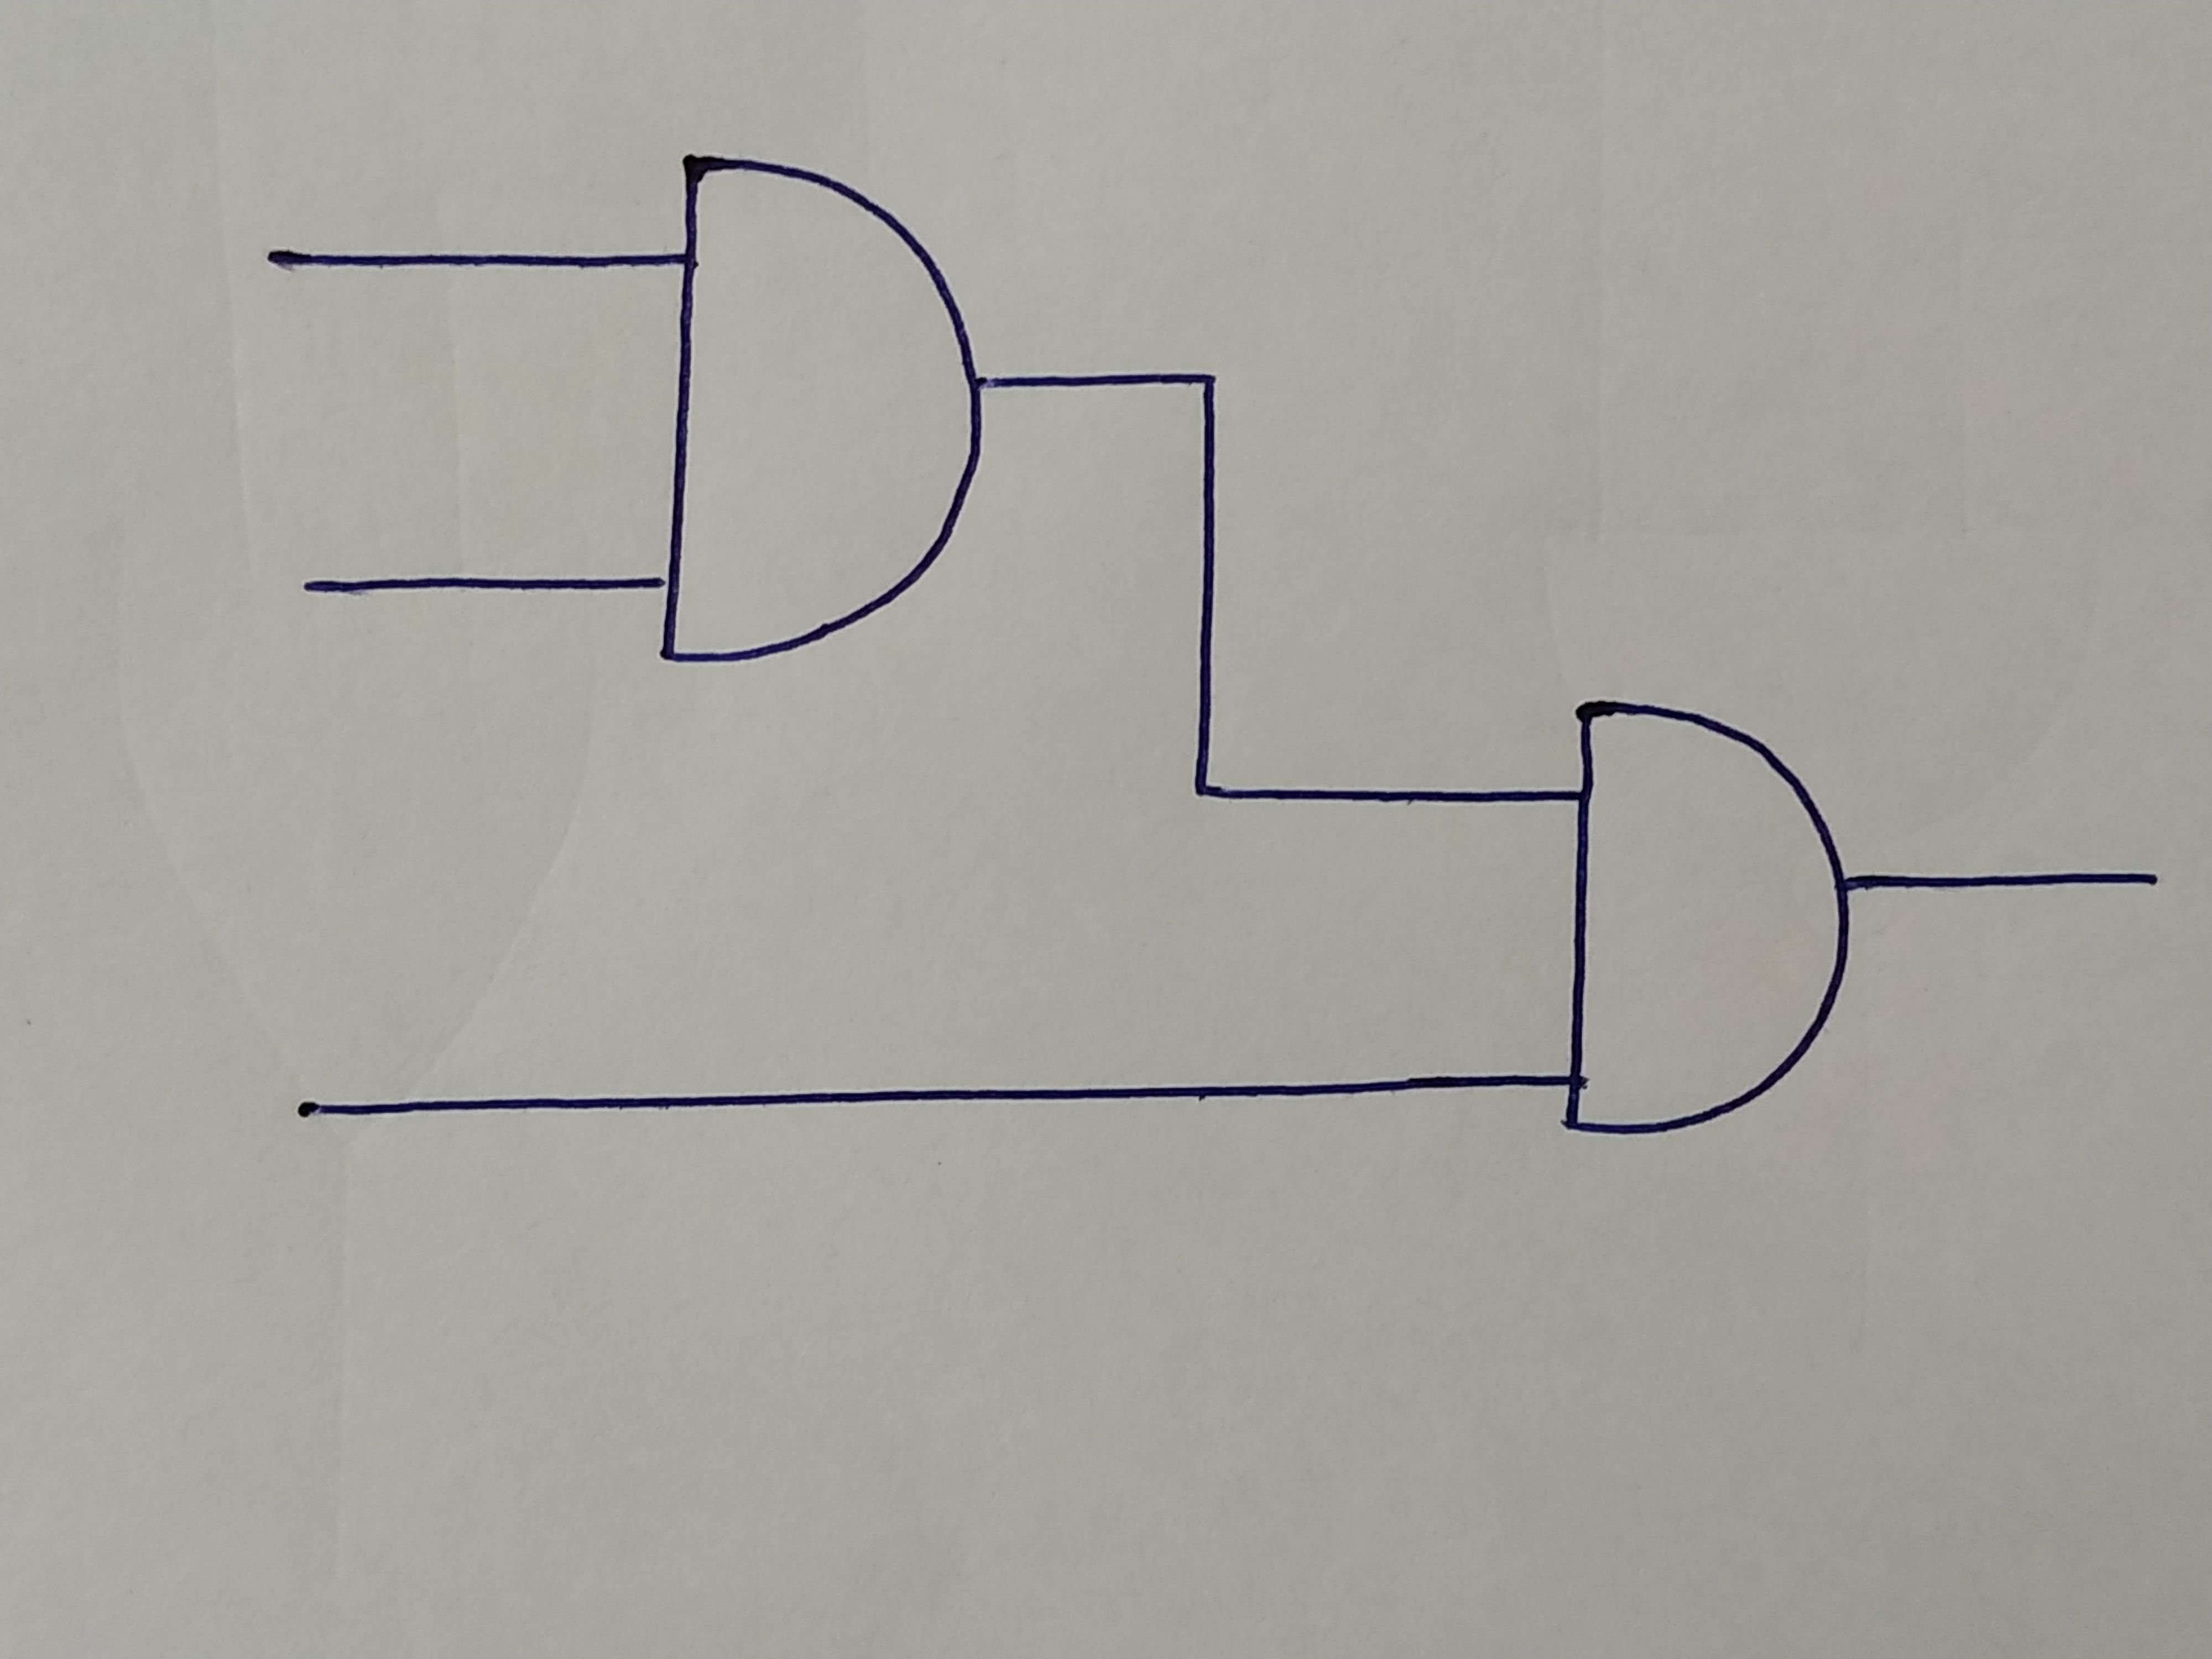and: (665, 155, 977, 657), (1569, 701, 1844, 1140)
